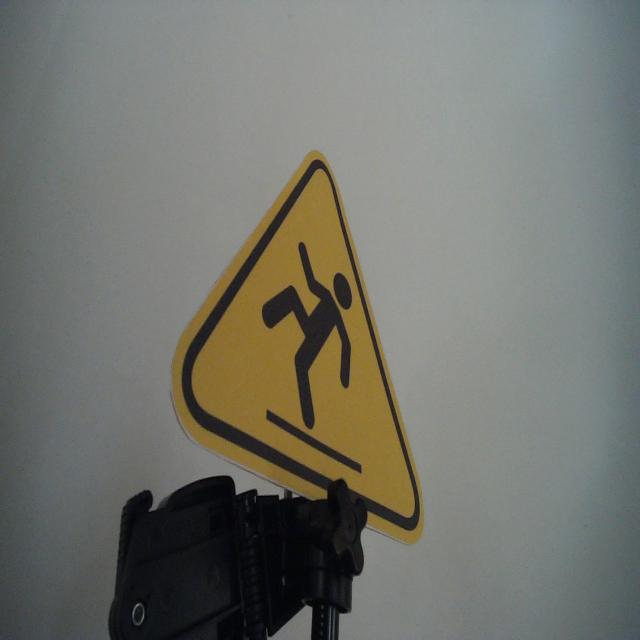slippery_sign: (166, 146, 426, 550)
